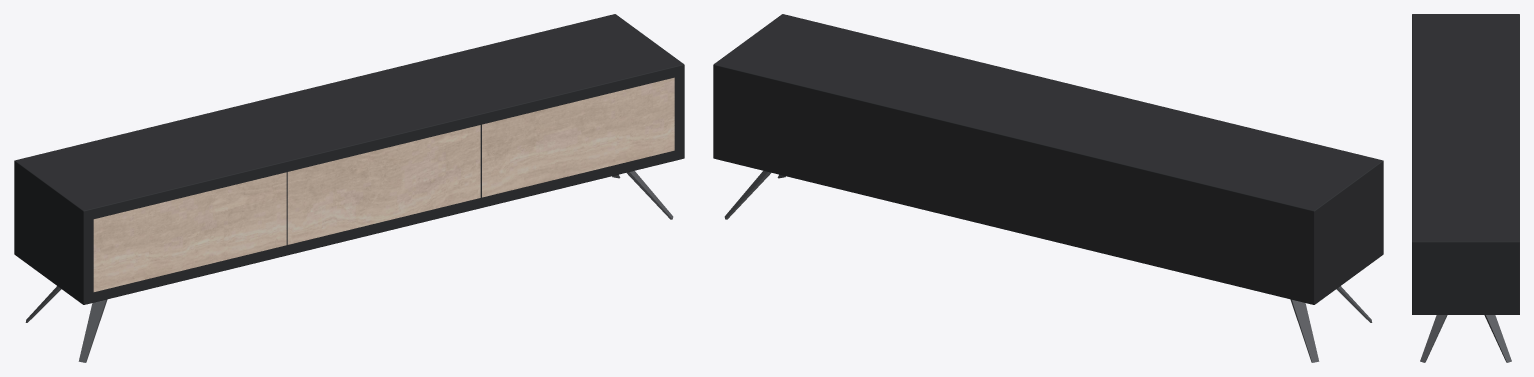
File: black-travertine-tv-console.glb
The picture shows the model from 3 angles, left to right: view 1: azimuth 30°, elevation 25°; view 2: azimuth 150°, elevation 25°; view 3: azimuth 270°, elevation 25°; orthographic projection. The views are drawn at different scales.
Parts seen in each view (by area): view 1: frame, panel0, panel2, panel1, leg_-1_-1; view 2: frame, leg_-1_1; view 3: frame, leg_1_1, leg_1_-1.
Part boxes in pixels (<box>): frame: <box>14,14,684,304</box>; panel0: <box>92,171,286,291</box>; panel2: <box>480,76,674,197</box>; panel1: <box>286,124,480,244</box>; leg_-1_-1: <box>78,299,107,362</box>; frame: <box>713,14,1383,304</box>; leg_-1_1: <box>1290,299,1319,362</box>; frame: <box>1412,14,1519,314</box>; leg_1_1: <box>1484,315,1511,362</box>; leg_1_-1: <box>1420,315,1447,362</box>.
Bounding box in the file's own units: 2 × 0.5 × 0.4.
Materials: 3 (1 with a texture image).
